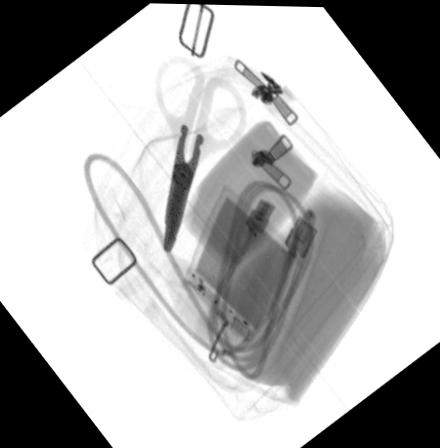Powerbank: (181, 181, 300, 348)
Scissors: (155, 54, 247, 255)
